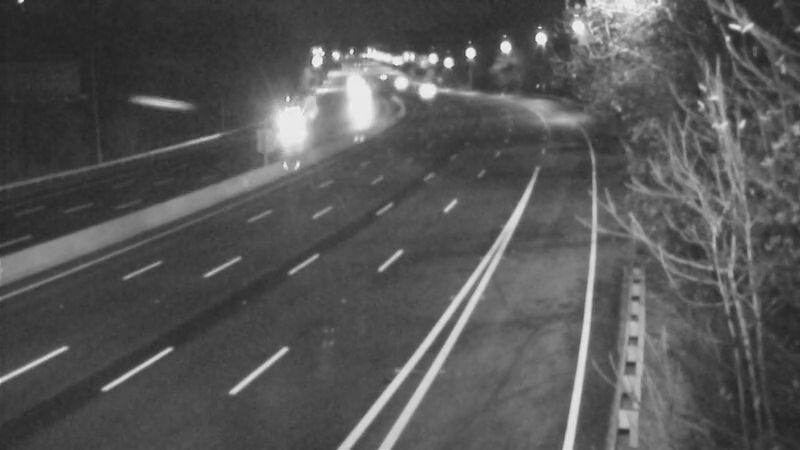vehicle: (398, 63, 448, 113), (370, 55, 420, 105), (272, 94, 322, 144), (332, 80, 382, 130)
